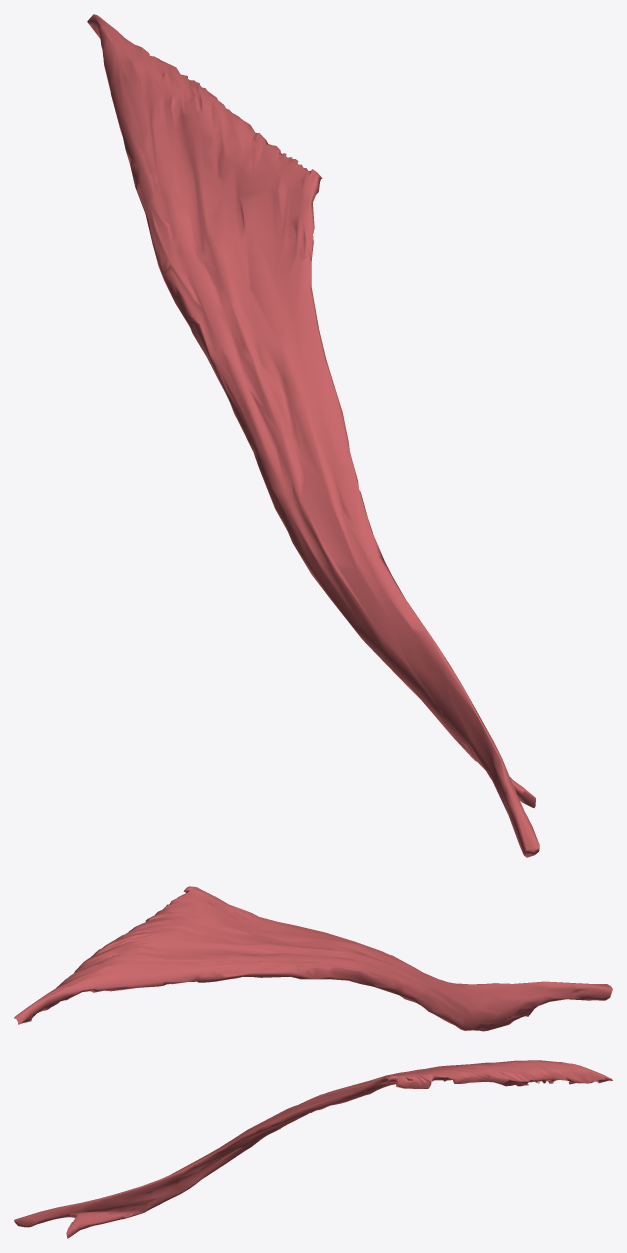
The picture shows the model from 3 angles, top to bottom: view 1: azimuth 30°, elevation 25°; view 2: azimuth 150°, elevation 25°; view 3: azimuth 270°, elevation 25°; orthographic projection. The views are drawn at different scales.
Visible parts, largest first — view 1: 右侧颈夹肌; view 2: 右侧颈夹肌; view 3: 右侧颈夹肌.
Boxes of the visible parts, x1,y1,x2,y2 form: 右侧颈夹肌: [87, 14, 539, 857]; 右侧颈夹肌: [14, 886, 612, 1031]; 右侧颈夹肌: [14, 1060, 612, 1238].
Bounding box in the file's own units: 0.0644 × 0.1359 × 0.3795.
